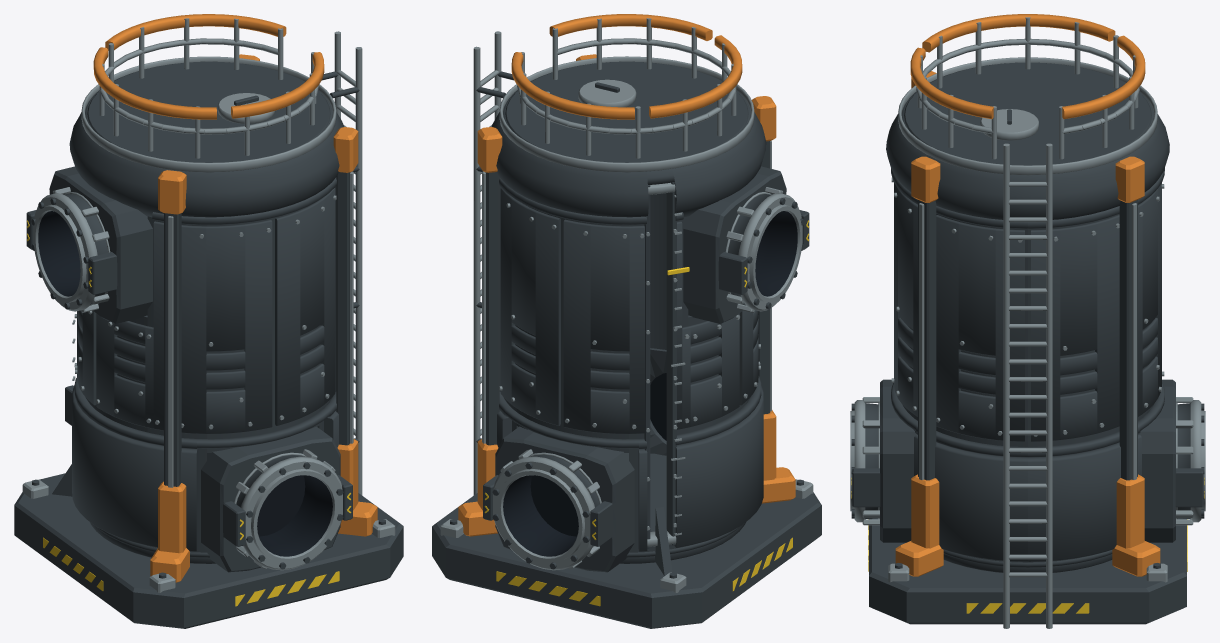
The model's file is SM_AdvancedFluidBuffer.fbx.
The picture shows the model from 3 angles, left to right: view 1: azimuth 30°, elevation 25°; view 2: azimuth 150°, elevation 25°; view 3: azimuth 270°, elevation 25°; orthographic projection.
Parts seen in each view (by area): view 1: SM_OverflowTank; view 2: SM_OverflowTank; view 3: SM_OverflowTank.
Part boxes in pixels (left/top/right/bottom): SM_OverflowTank: left=14, top=14, right=403, bottom=628; SM_OverflowTank: left=432, top=14, right=821, bottom=628; SM_OverflowTank: left=850, top=14, right=1205, bottom=628.
Size of what is drawn, in the model's own units: 564 by 580 by 893.
